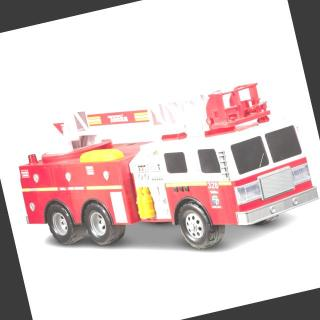Fire_truck: (1, 53, 320, 286)
